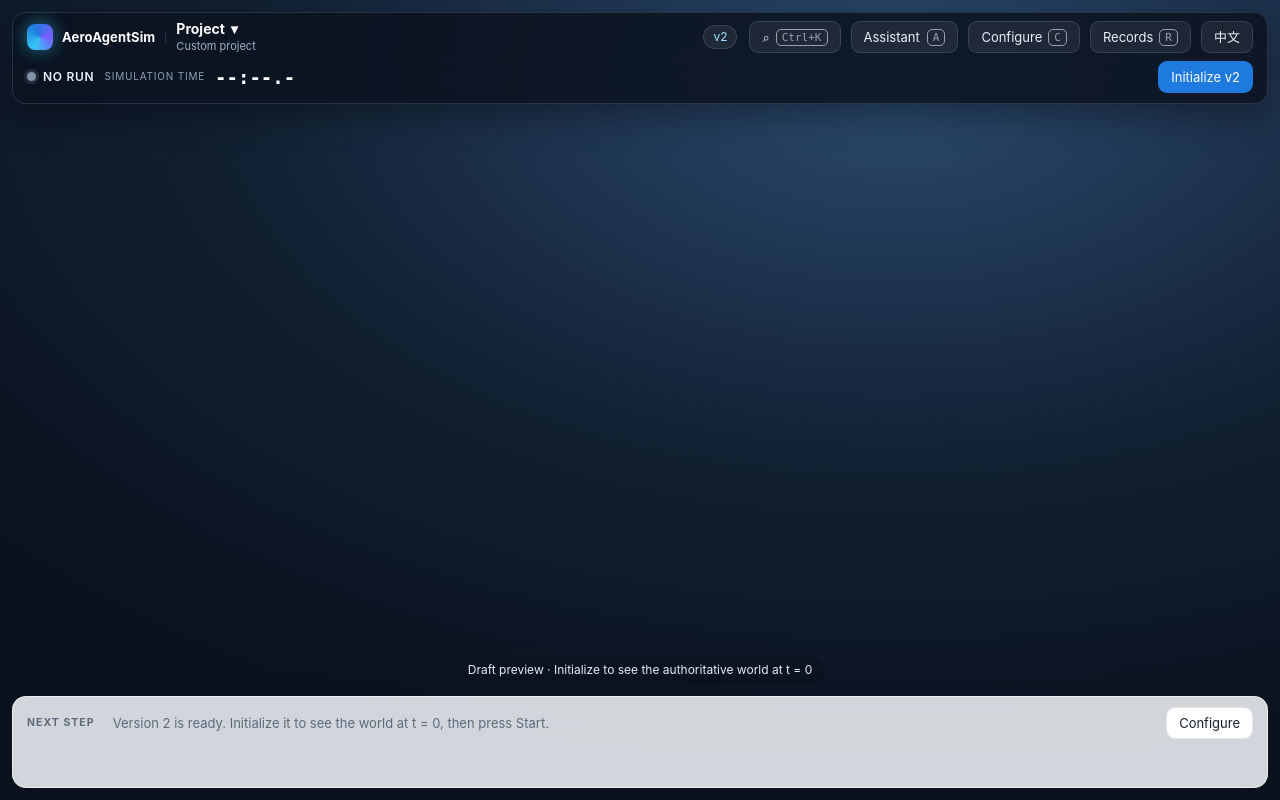
it: shows the t = 0 success and Start only for an acknowledged initialized run
The image size is (1280, 800).
What coordinates should you click on to do the following:
click the button with test id "wb-init"
I would click on:
 (1206, 77)
Its box is [1158,61,1253,93].
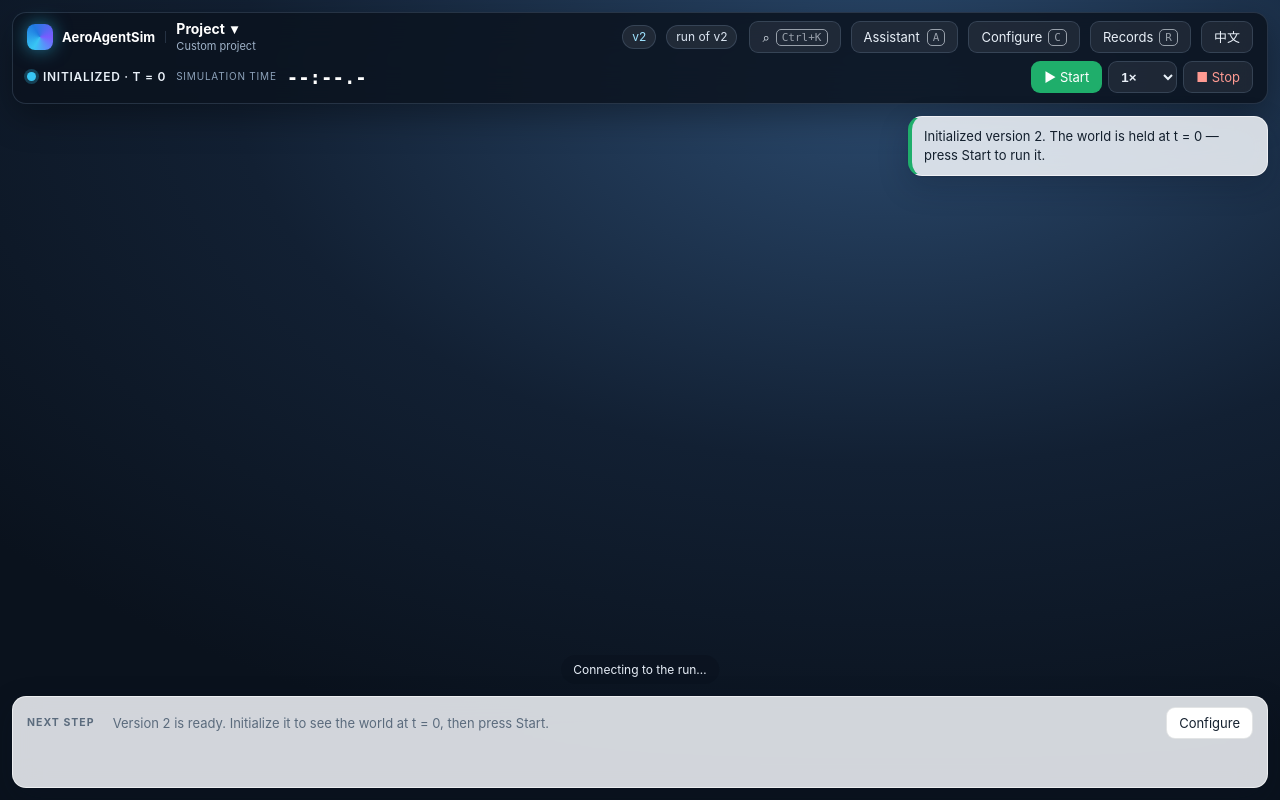
Expected: the text with test id "current-url" shows "run=initialized-run", [77,0,312,22]
Expected: the text "Initialized version 2. The world is held at t = 0" is shown, [924,128,1219,163]
Expected: the button with test id "wb-start" is enabled, [1031,61,1102,93]
